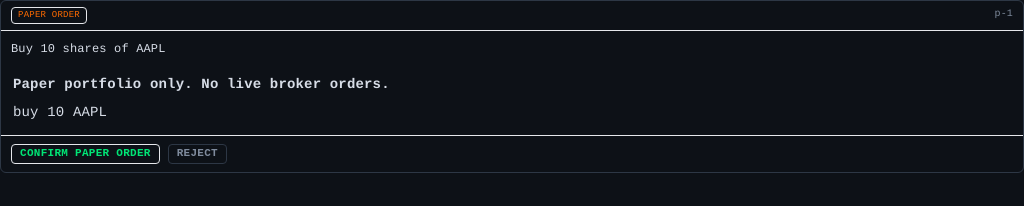
Test: ProposalCard › shows backend failure reason without a success result
This screenshot has width=1024, height=206.
Click the button "Confirm paper order" at (85, 154), box [11,144,160,164]
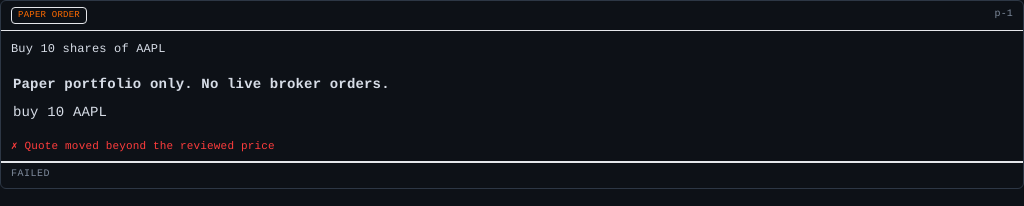
Result: the text "✗ Quote moved beyond the reviewed price" is shown at [1,135,1023,162]
